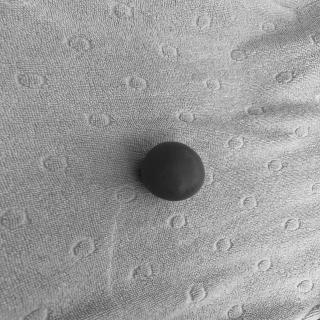Telur: (139, 140, 209, 203)
